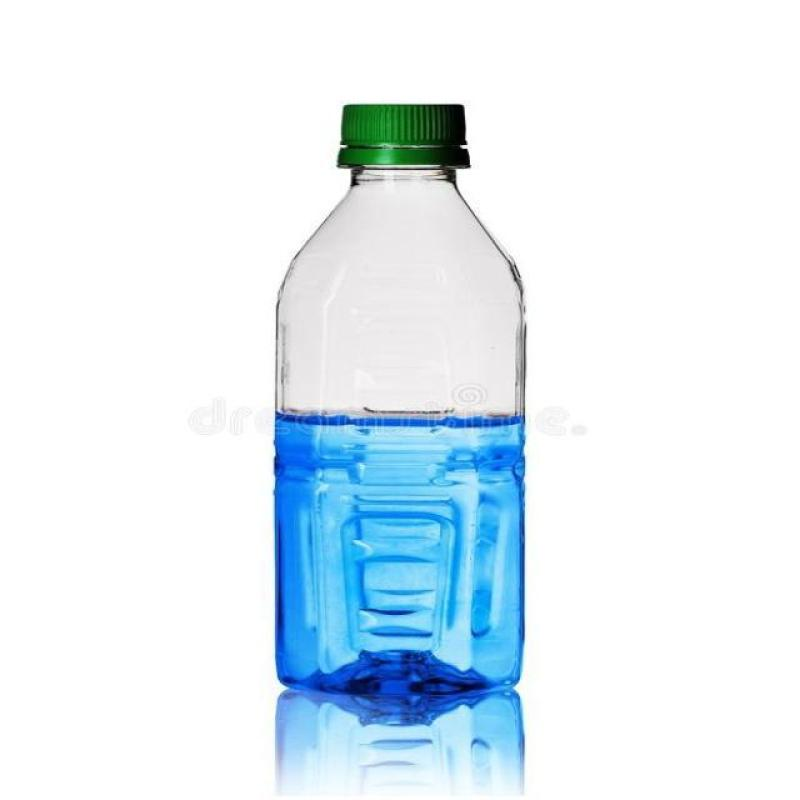botella: (266, 104, 532, 707)
